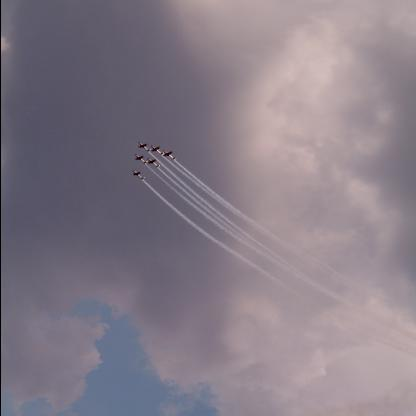aircraft: (162, 150, 180, 161), (131, 169, 147, 181), (137, 142, 151, 154), (149, 144, 163, 156), (133, 154, 147, 165), (146, 158, 160, 169)
